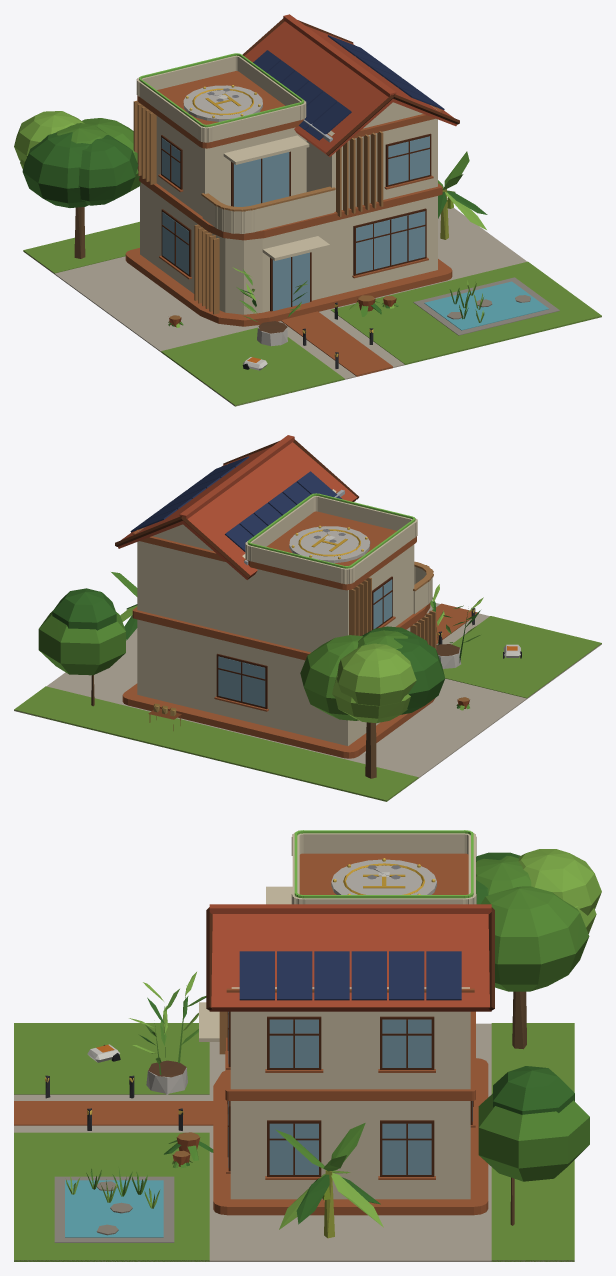
File: home_1.glb
The picture shows the model from 3 angles, top to bottom: view 1: azimuth 30°, elevation 25°; view 2: azimuth 150°, elevation 25°; view 3: azimuth 270°, elevation 25°; orthographic projection. The views are drawn at different scales.
Parts seen in each view (by area): view 1: body, windows; view 2: body, windows; view 3: body, windows.
Part boxes in pixels (x1=…): body: x1=14, y1=14, x2=601, y2=406; windows: x1=139, y1=53, x2=373, y2=356; body: x1=14, y1=435, x2=601, y2=801; windows: x1=247, y1=493, x2=474, y2=636; body: x1=14, y1=832, x2=601, y2=1261; windows: x1=45, y1=830, x2=473, y2=1115.
Size of the model in its own units: 16.82 by 8.68 by 16.68.
